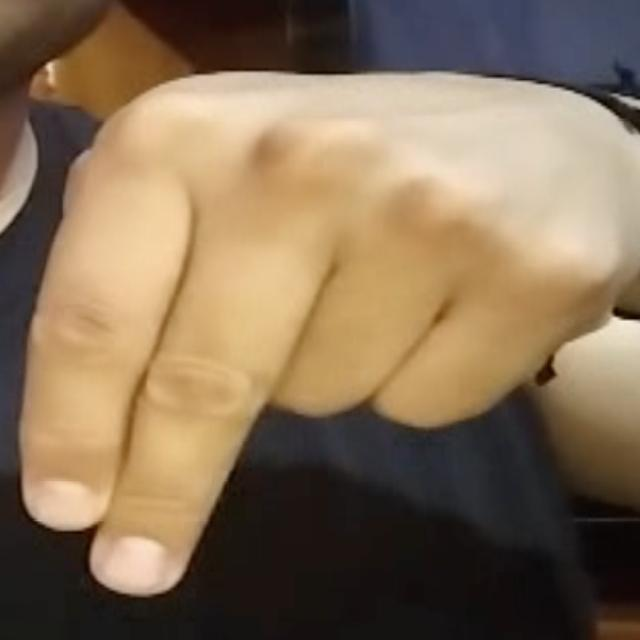N: (14, 56, 612, 608)
